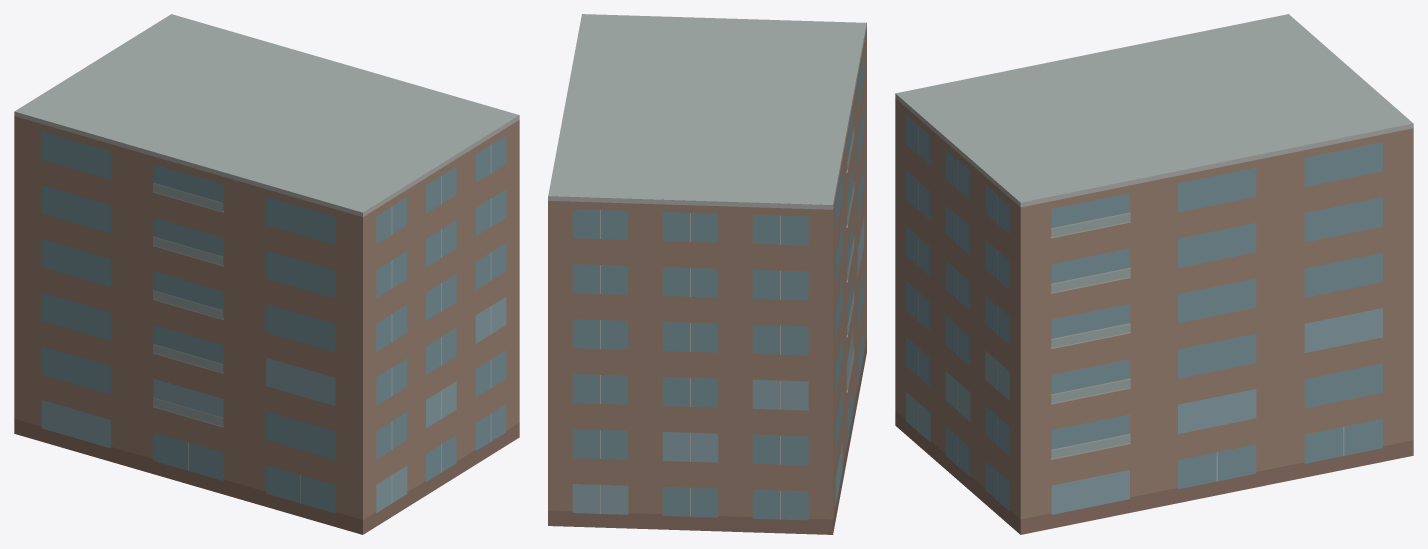
File: survey-upis-32983814.glb
3 views of the same model, side by side, from view 1: azimuth 30°, elevation 25°; view 2: azimuth 150°, elevation 25°; view 3: azimuth 270°, elevation 25° (orthographic). The views are drawn at different scales.
Visible parts, largest first — view 1: survey-upis-32983814.tmp; view 2: survey-upis-32983814.tmp; view 3: survey-upis-32983814.tmp.
Part boxes in pixels (x1,y1,x2,y2): survey-upis-32983814.tmp: [14, 14, 519, 534]; survey-upis-32983814.tmp: [548, 14, 866, 534]; survey-upis-32983814.tmp: [895, 14, 1413, 534].
Size of the model in its own units: 21.1 by 17.3 by 24.48.
